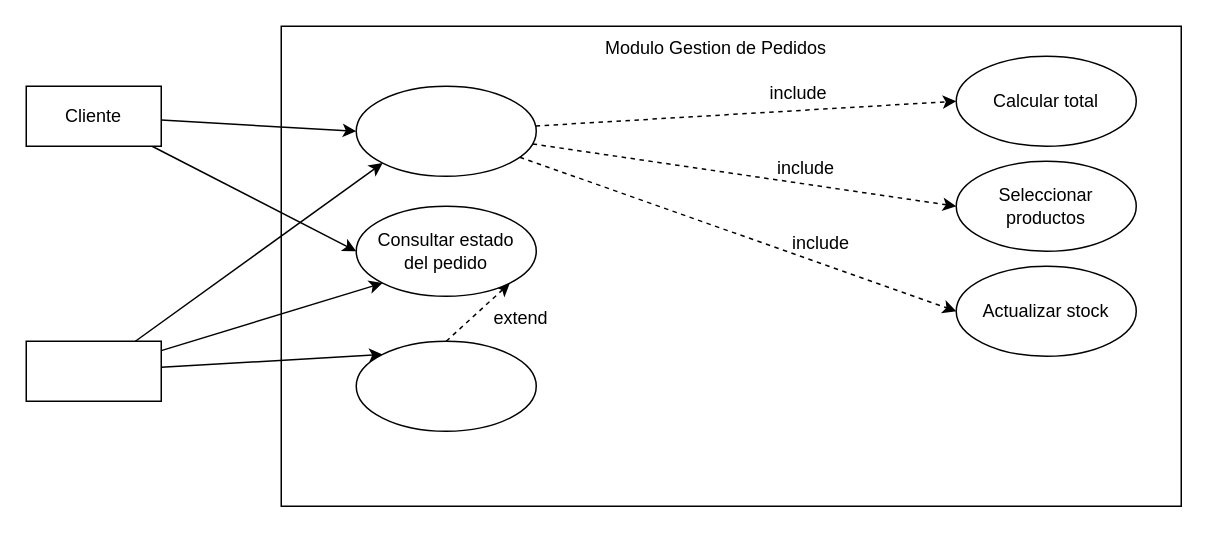
This 1208x533 diagram has some shape labels left out. Here are the shapes that lost their labels. From the top down, the box of each, then its label:
(355, 85, 536, 176): Registrar Pedido
(25, 340, 161, 401): Empleado
(355, 340, 536, 431): Actualizar estado del pedido
